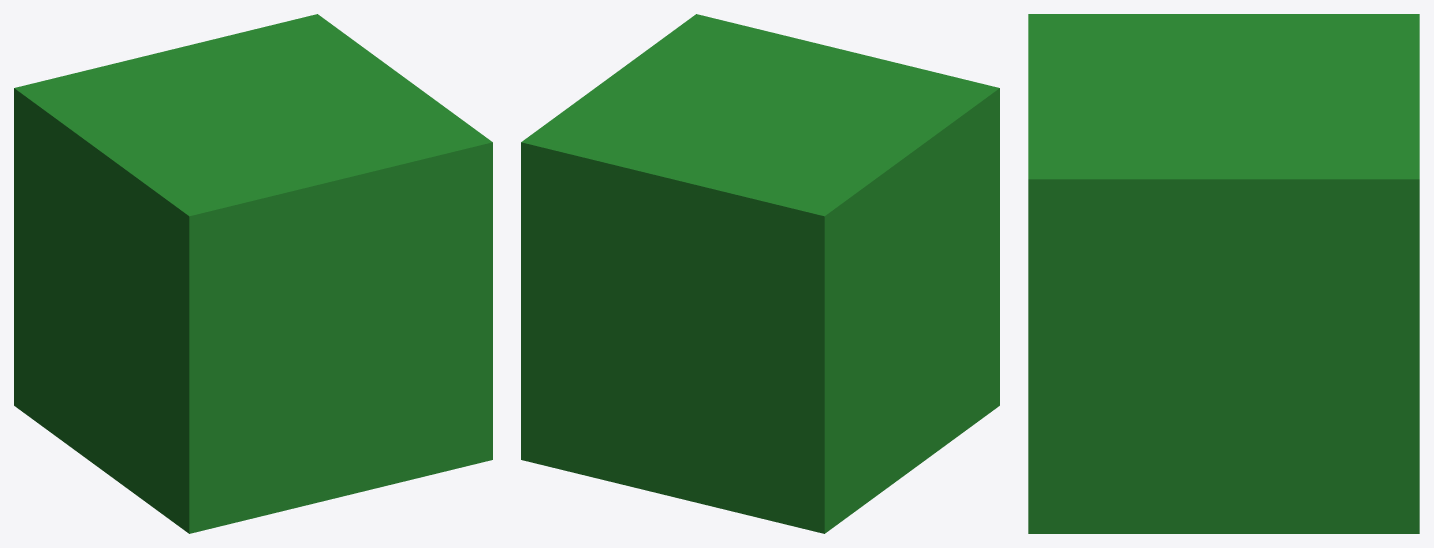
The model's file is Bush.fbx.
3 views of the same model, side by side, from view 1: azimuth 30°, elevation 25°; view 2: azimuth 150°, elevation 25°; view 3: azimuth 270°, elevation 25° (orthographic). The views are drawn at different scales.
Parts seen in each view (by area): view 1: Bush.001; view 2: Bush.001; view 3: Bush.001.
Part boxes in pixels (bbox=[...]): Bush.001: bbox=[14, 14, 492, 533]; Bush.001: bbox=[521, 14, 999, 533]; Bush.001: bbox=[1028, 14, 1419, 533].
Bounding box in the file's own units: 325 × 373 × 325.
